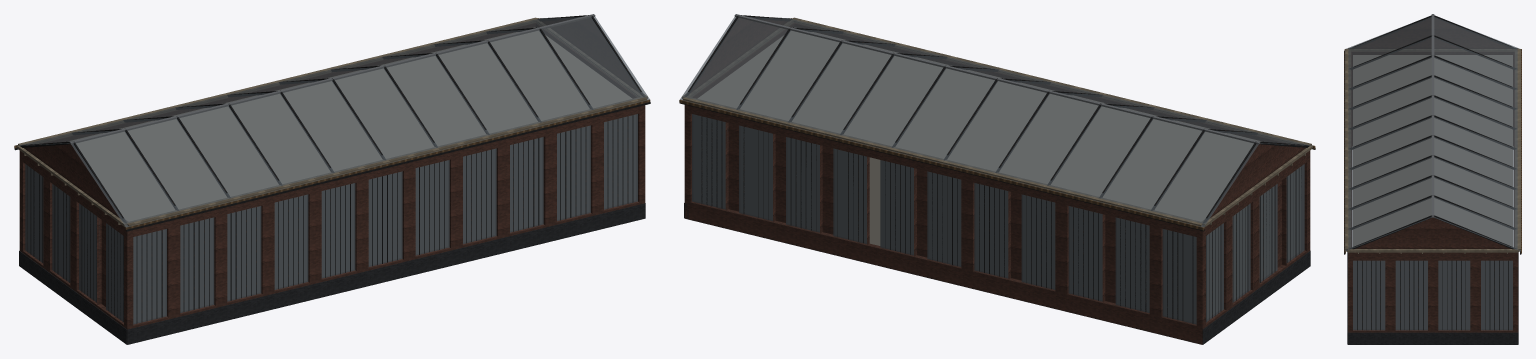
The model's file is B_moulding_loft.glb.
3 views of the same model, side by side, from view 1: azimuth 30°, elevation 25°; view 2: azimuth 150°, elevation 25°; view 3: azimuth 270°, elevation 25° (orthographic). The views are drawn at different scales.
Parts seen in each view (by area): view 1: B_moulding_loft; view 2: B_moulding_loft; view 3: B_moulding_loft.
Boxes of the visible parts, x1,y1,x2,y2 form: B_moulding_loft: [14, 14, 650, 344]; B_moulding_loft: [679, 14, 1315, 344]; B_moulding_loft: [1344, 14, 1521, 344].
Bounding box in the file's own units: 50.6 × 15.11 × 18.79.
Materials: 8 (5 with a texture image).
